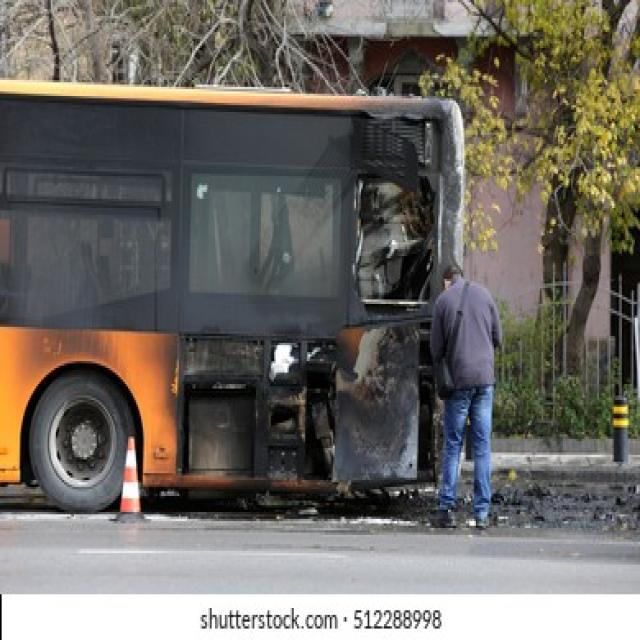Accident: (0, 72, 505, 536)
